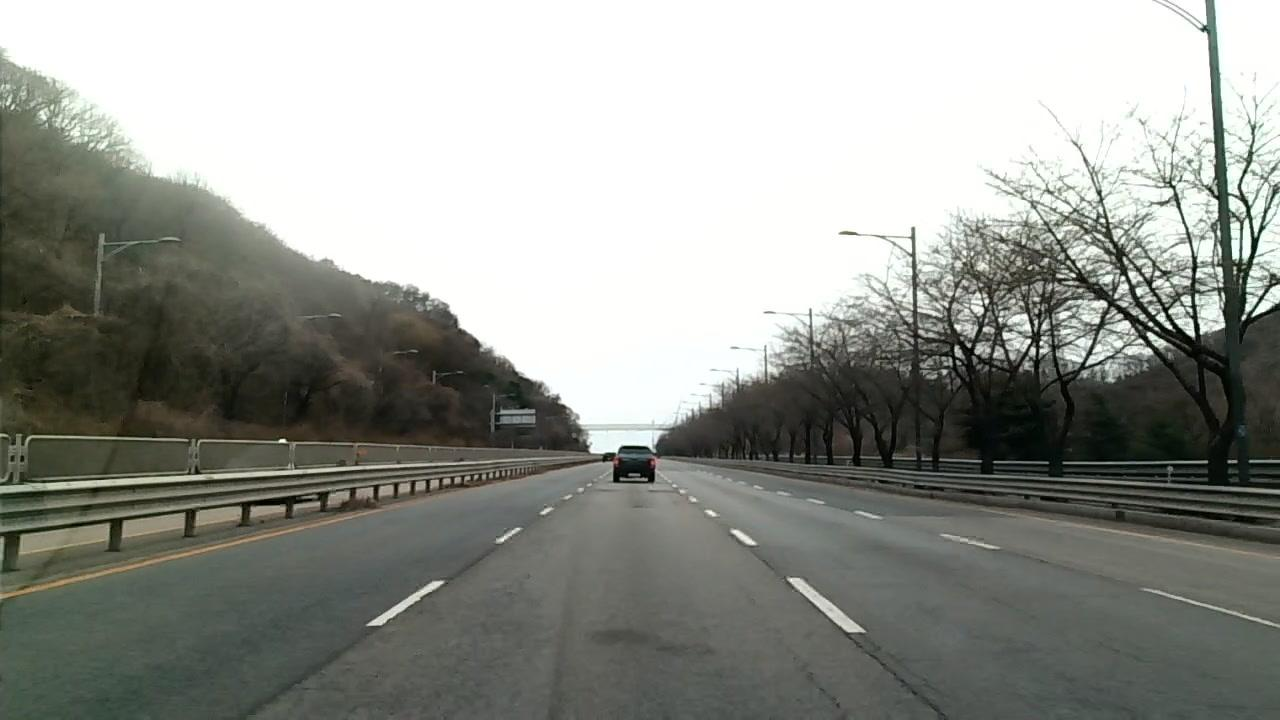banner: (748, 543, 953, 720)
